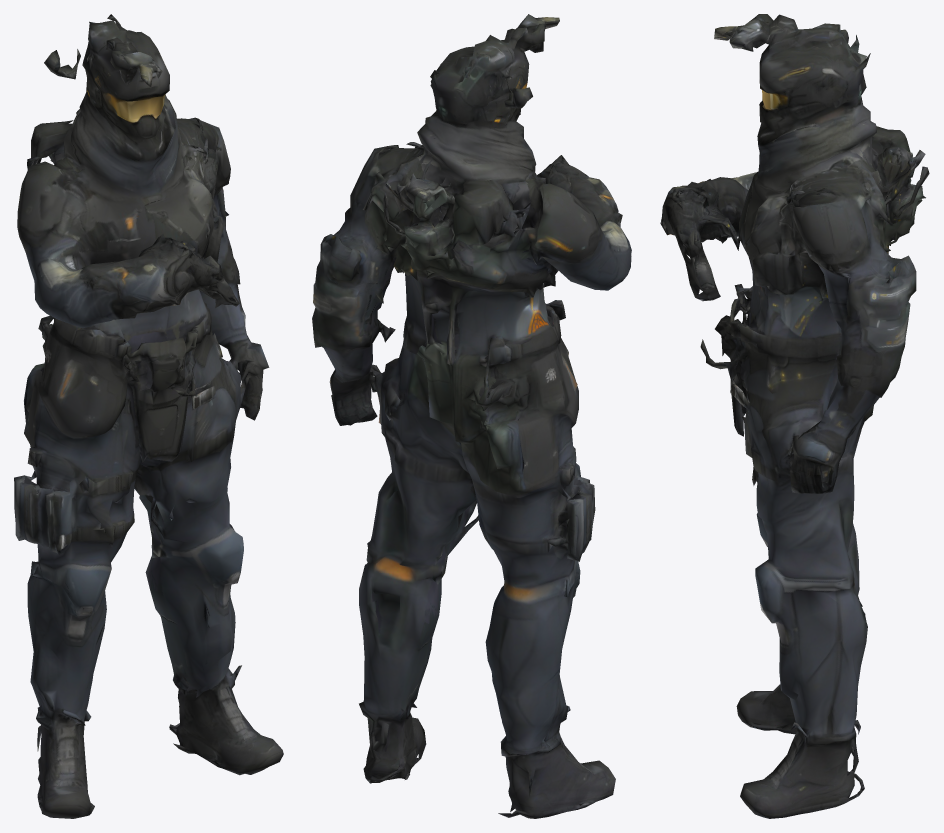
The model's file is Stealth_Operative_A2_0411101742_texture.glb.
3 views of the same model, side by side, from view 1: azimuth 30°, elevation 25°; view 2: azimuth 150°, elevation 25°; view 3: azimuth 270°, elevation 25° (orthographic). The views are drawn at different scales.
Size of the model in its own units: 0.7157 by 1.99 by 0.6623.
1 material, 1 textured.
